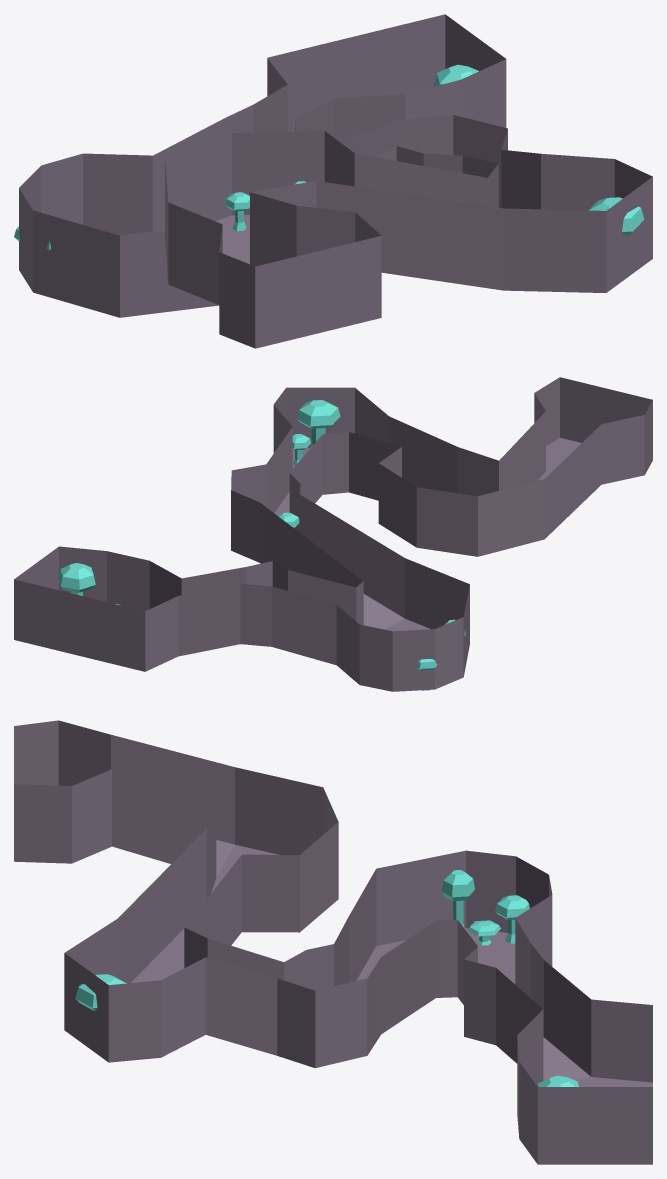
Rendered from Cave.fbx.
3 renders of one model, top to bottom at view 1: azimuth 30°, elevation 25°; view 2: azimuth 150°, elevation 25°; view 3: azimuth 270°, elevation 25°, orthographic. The views are drawn at different scales.
Visible parts, largest first — view 1: Plane, Circle.003, Circle.001, Circle.009; view 2: Plane, Circle.003, Circle.009; view 3: Plane, Circle.006, Circle.008.
Part boxes in pixels (x1,y1,x2,y2): Plane: (19,14,652,348); Circle.003: (589,197,644,235); Circle.001: (225,192,249,231); Circle.009: (434,64,478,86); Plane: (14,377,652,691); Circle.003: (296,400,340,447); Circle.009: (58,563,95,595); Plane: (14,720,652,1164); Circle.006: (441,870,474,928); Circle.008: (495,895,529,943).
Bounding box in the file's own units: 3688 × 1366 × 4000.
